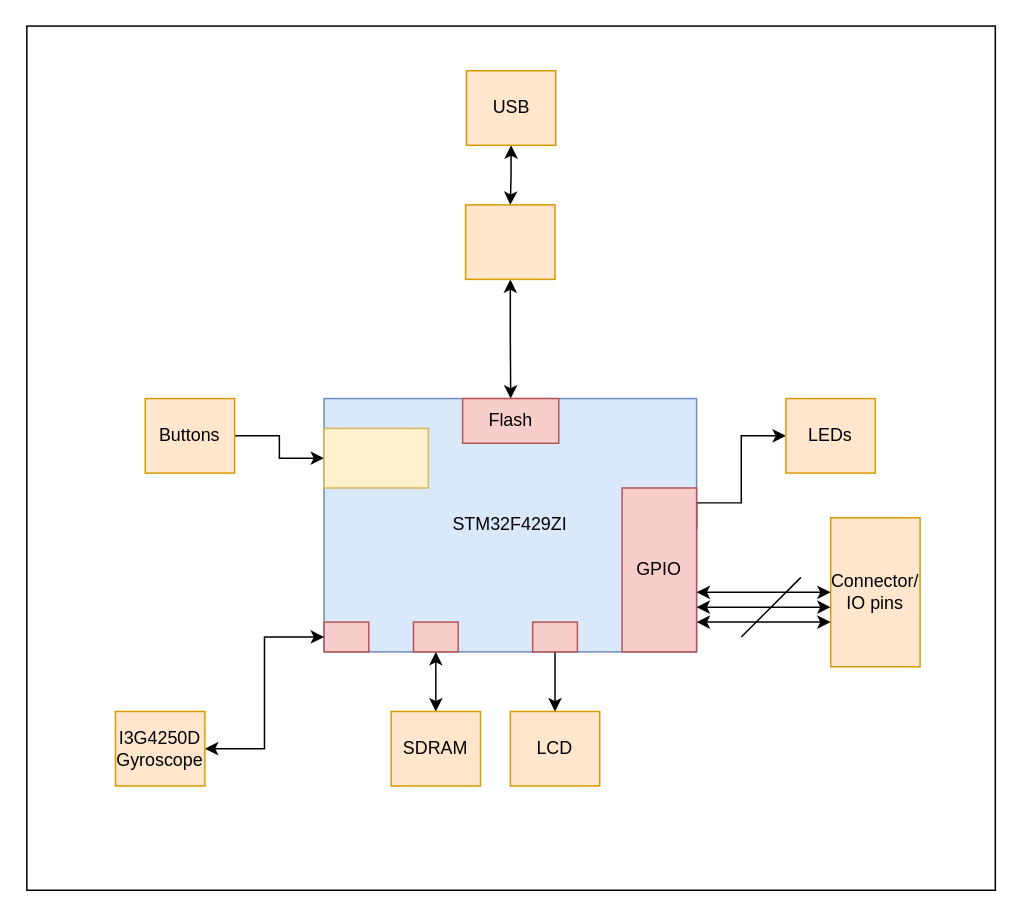
Image size: 1021x916. Some labels were removed from this diagram. Each missing label, with the centre of its shape:
GPIO/ISR: point 375,457
I/O?: point 554,636
I2C: point 346,636
SPI?: point 435,636
ST Link Debug: point 509,241
